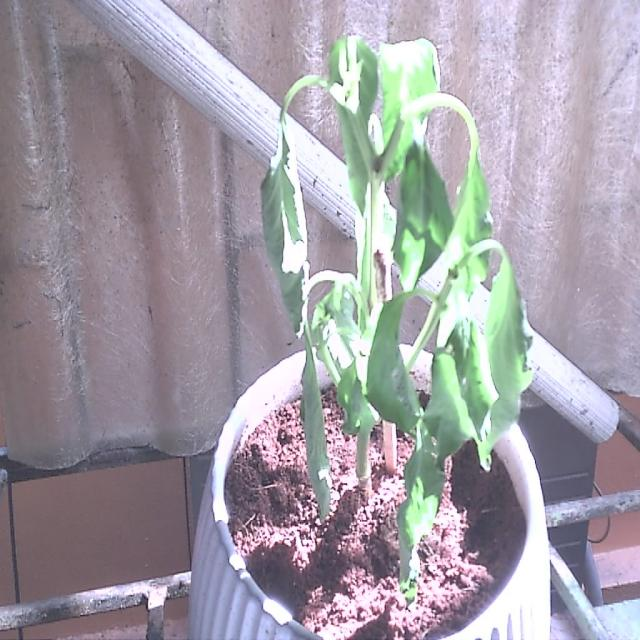Leaf: (260, 123, 310, 332), (366, 286, 419, 432), (487, 256, 530, 408)
